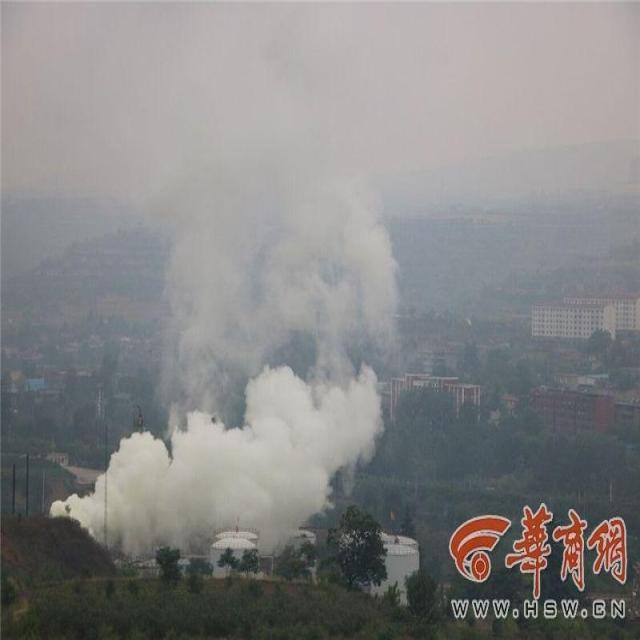Smoke: (48, 1, 402, 560)
